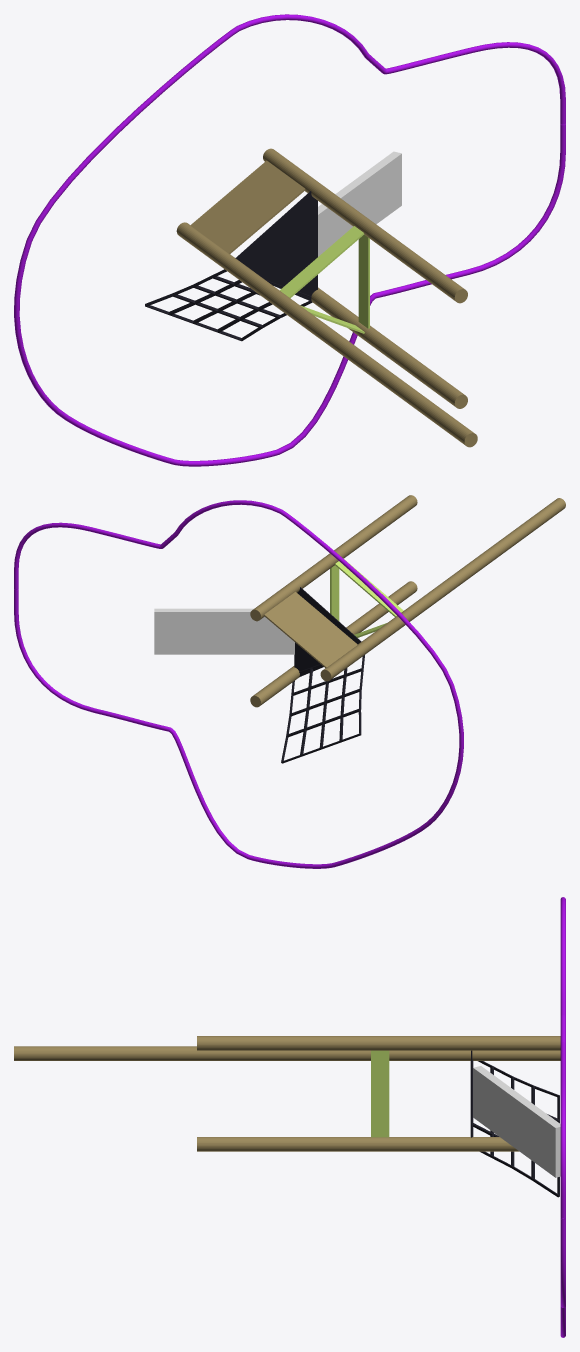
The model's file is leber-lgk-21.glb.
The picture shows the model from 3 angles, top to bottom: view 1: azimuth 30°, elevation 25°; view 2: azimuth 150°, elevation 25°; view 3: azimuth 270°, elevation 25°; orthographic projection. The views are drawn at different scales.
Parts seen in each view (by area): view 1: _outline.007, Cylinder.030, Cube.047, Cube.043, Cube.048, Cylinder.028, Cylinder.029, Plane, Cube.044, Cube.046; view 2: _outline.007, Cube.048, Cylinder.030, Cube.047, Cylinder.028, Plane, Cylinder.029, Cube.043, Cube.044, Cube.046; view 3: Cylinder.030, Cylinder.028, Cube.048, Cylinder.029, _outline.007, Cube.046, Plane.
Part boxes in pixels (x1,y1,x2,y2): _outline.007: [14, 14, 565, 466]; Cylinder.030: [176, 222, 477, 447]; Cube.047: [190, 160, 305, 253]; Cube.043: [235, 191, 317, 301]; Cube.048: [318, 151, 401, 256]; Cylinder.028: [263, 148, 467, 303]; Cylinder.029: [311, 287, 467, 408]; Plane: [145, 269, 312, 341]; Cube.044: [280, 226, 364, 298]; Cube.046: [358, 234, 369, 328]; _outline.007: [14, 500, 463, 868]; Cube.048: [154, 608, 294, 654]; Cylinder.030: [320, 498, 565, 681]; Cube.047: [264, 592, 357, 667]; Cylinder.028: [250, 495, 417, 621]; Plane: [281, 655, 364, 763]; Cylinder.029: [250, 581, 417, 707]; Cube.043: [294, 587, 361, 676]; Cube.044: [335, 558, 403, 616]; Cube.046: [330, 565, 339, 621]; Cylinder.030: [14, 1046, 560, 1060]; Cylinder.028: [197, 1036, 560, 1050]; Cube.048: [473, 1066, 560, 1177]; Cylinder.029: [197, 1137, 519, 1151]; _outline.007: [560, 897, 565, 1337]; Cube.046: [371, 1050, 389, 1137]; Plane: [470, 1060, 559, 1197].
Size of the model in its own units: 6.64 by 5.08 by 6.03.
